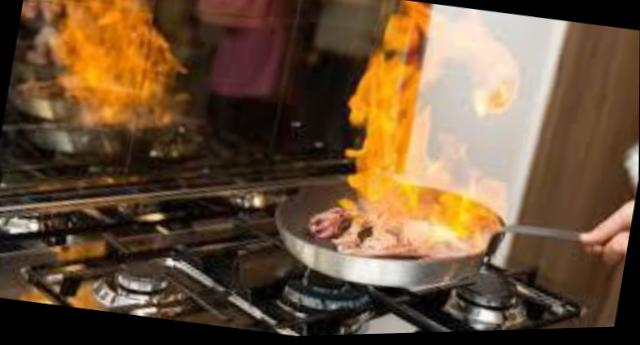fire: (317, 0, 552, 246), (7, 0, 216, 135)
